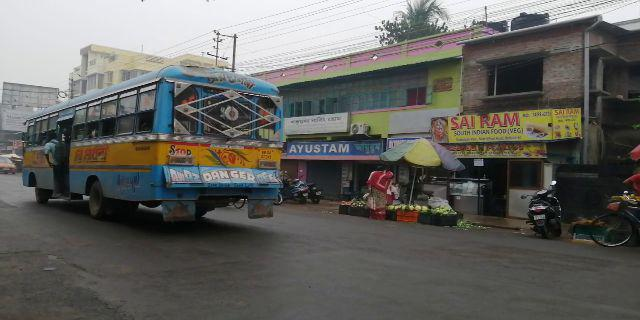Bus: (22, 69, 284, 213)
